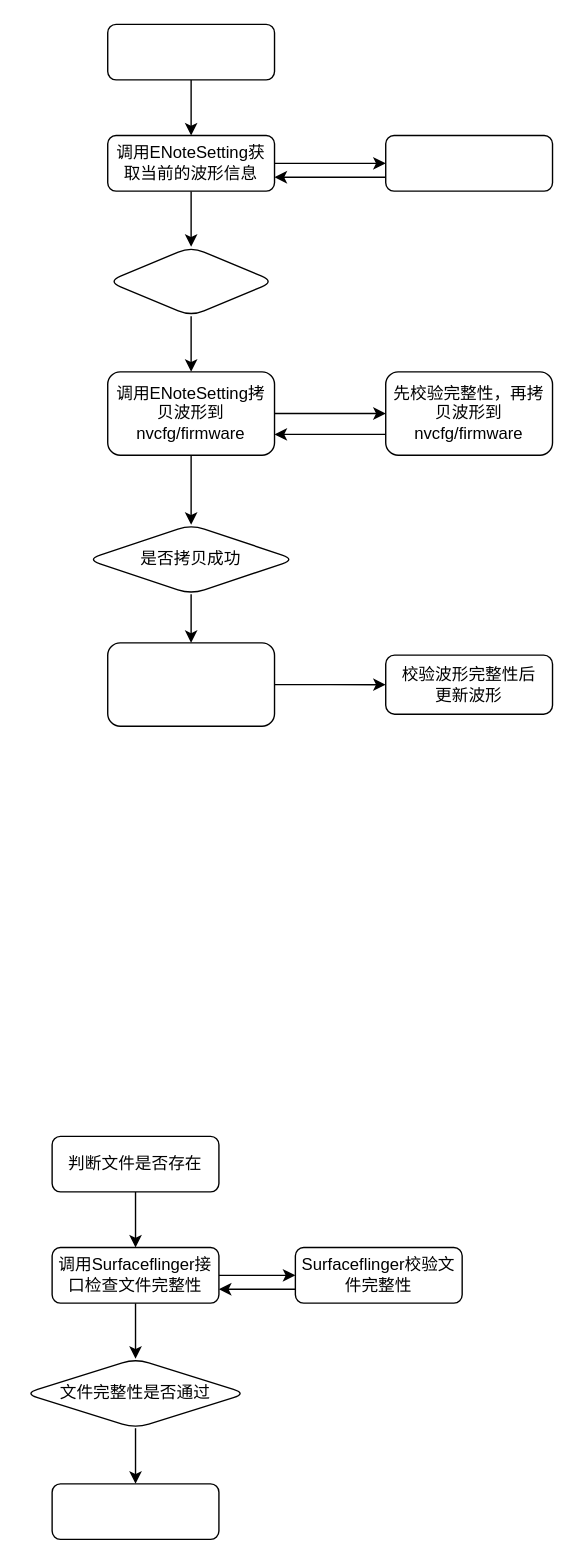
The diagram is 577 pixels wide and 1564 high, and some of its shapes have lost their labels. The centre of each missing label's shape, as x and y in pixels:
"从Surfaceflinger获取正在使用的波形信息" belongs at (468,162).
"工厂APK启动" belongs at (190,51).
"拷贝文件到 nvcfg/firmware" belongs at (135,1510).
"是否需要更新波形" belongs at (190,280).
"调用ENoteSetting通知Surfaceflinger更新波形" belongs at (190,683).
